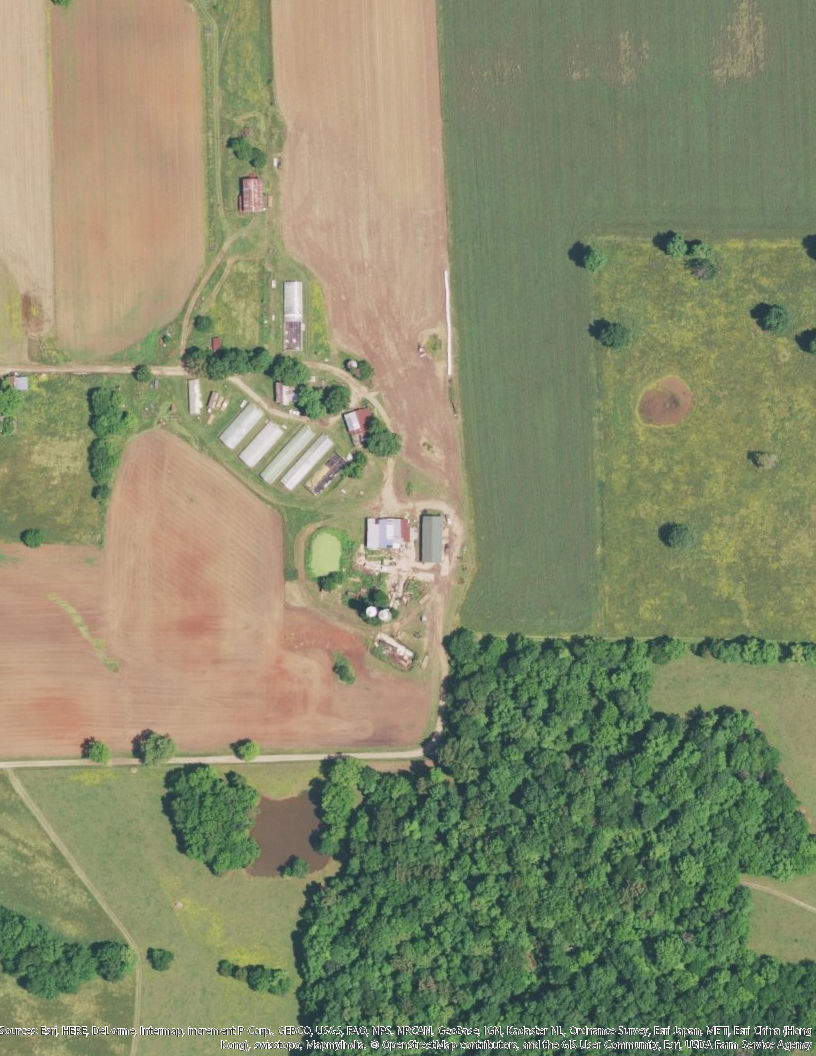cafo: (254, 425, 317, 487), (280, 433, 336, 493), (236, 419, 288, 469), (218, 401, 264, 451)
